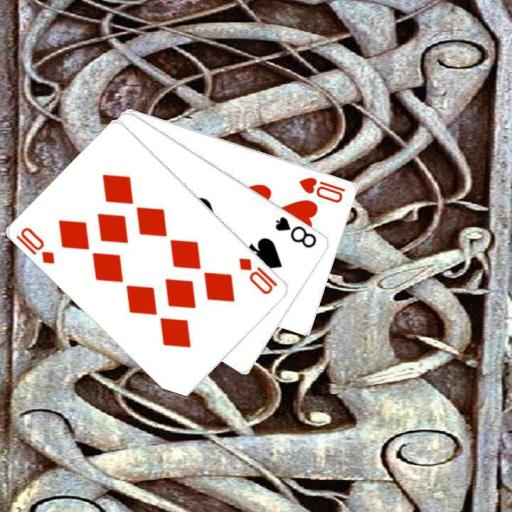10D: (236, 254, 280, 296), (13, 224, 57, 265)
10H: (296, 174, 347, 204)
8S: (273, 213, 319, 250)
